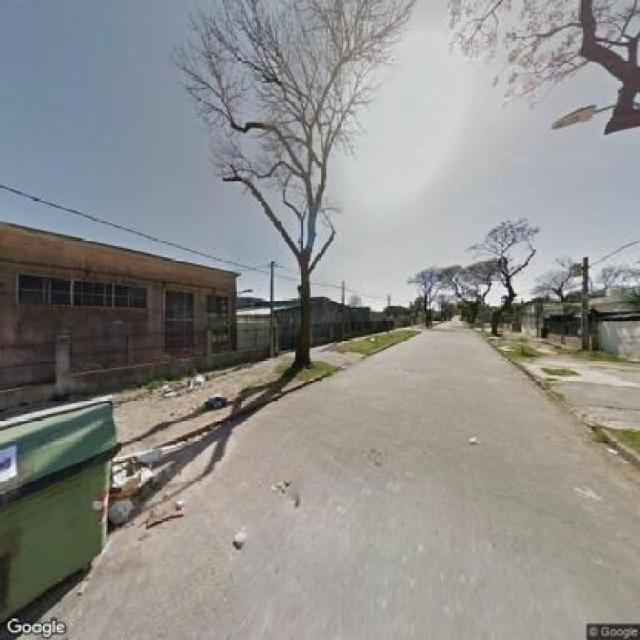garbage: (100, 451, 184, 526)
